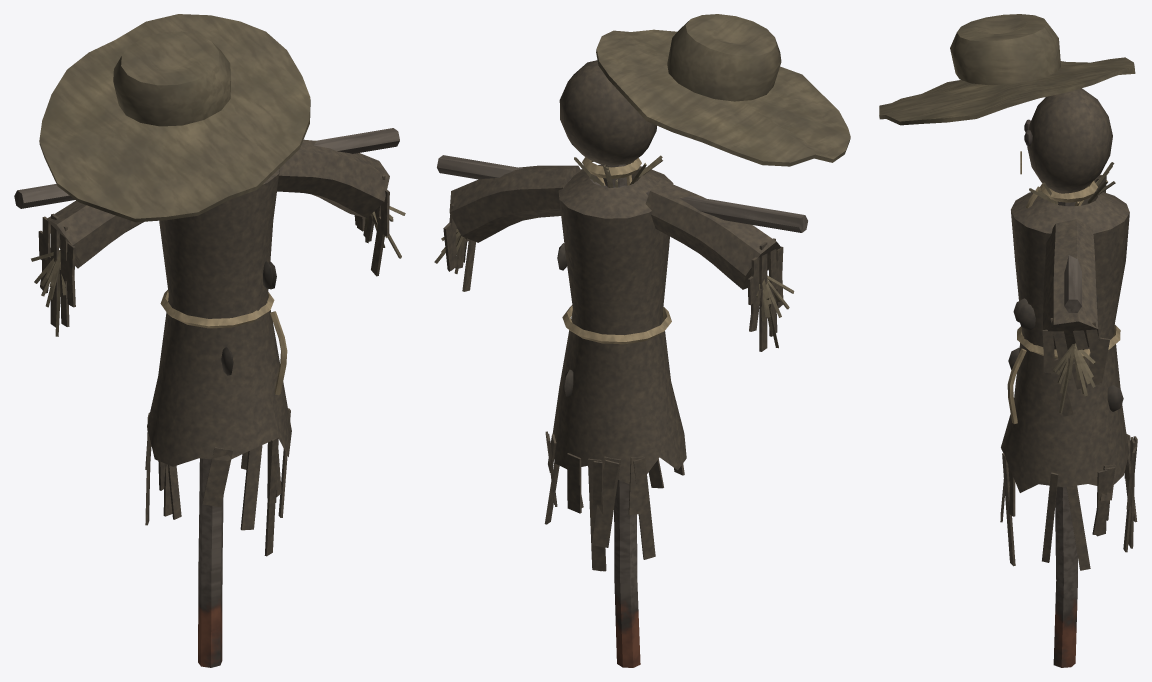
Rendered from Scarecrow.fbx.
The picture shows the model from 3 angles, left to right: view 1: azimuth 30°, elevation 25°; view 2: azimuth 150°, elevation 25°; view 3: azimuth 270°, elevation 25°; orthographic projection. The views are drawn at different scales.
Parts seen in each view (by area): view 1: Scarecrow; view 2: Scarecrow; view 3: Scarecrow.
Part boxes in pixels (left/top/right/bottom): Scarecrow: left=14, top=14, right=405, bottom=667; Scarecrow: left=434, top=14, right=850, bottom=667; Scarecrow: left=879, top=14, right=1137, bottom=667.
Bounding box in the file's own units: 128 × 212 × 81.35.
Materials: 1 (1 with a texture image).
